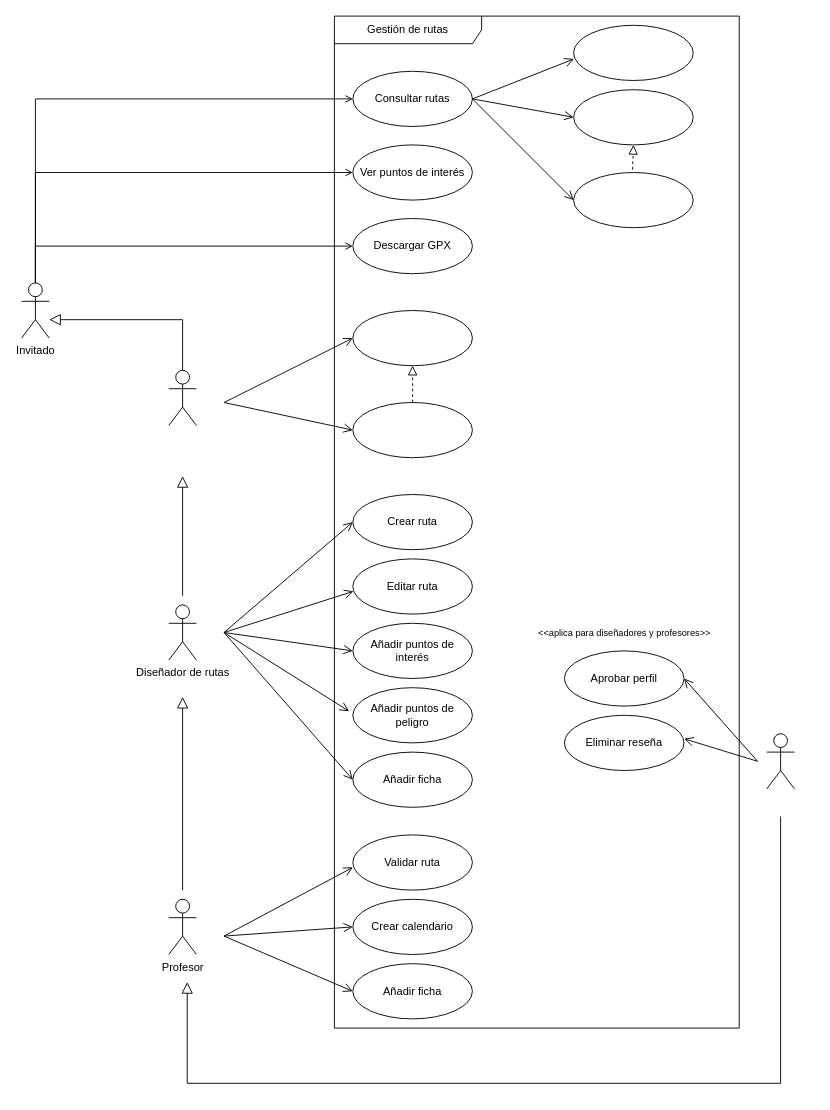
The diagram is 830 pixels wide and 1110 high, and some of its shapes have lost their labels. The centre of each missing label's shape, as x and y in pixels:
"Administrador" goes at point 780,761.
"Alumno (Usuario registrado)" goes at point 182,397.
"Comentar ruta" goes at point 633,200.
"Editar perfil" goes at point 412,430.
"Iniciar sesión" goes at point 412,338.
"Valorar ruta" goes at point 633,117.
"Ver detalles de ruta" goes at point 633,52.
